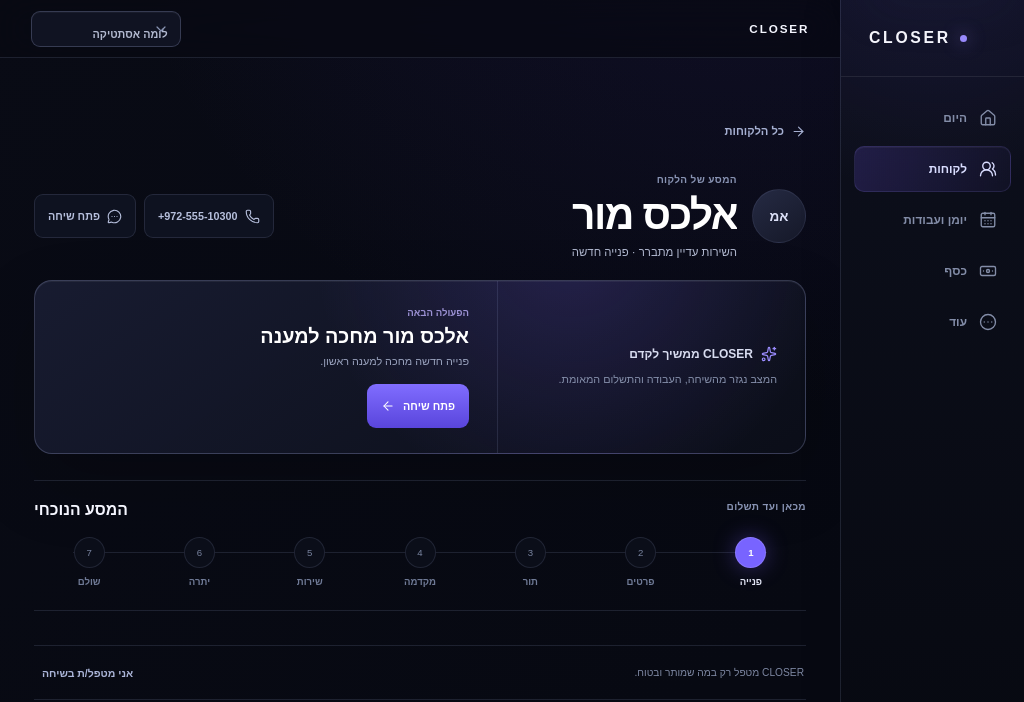
Test case: production product experience › returns from a customer workspace to the Customers operating view
Click the link "כל הלקוחות".
click(765, 131)  # box [724,124,806,139]
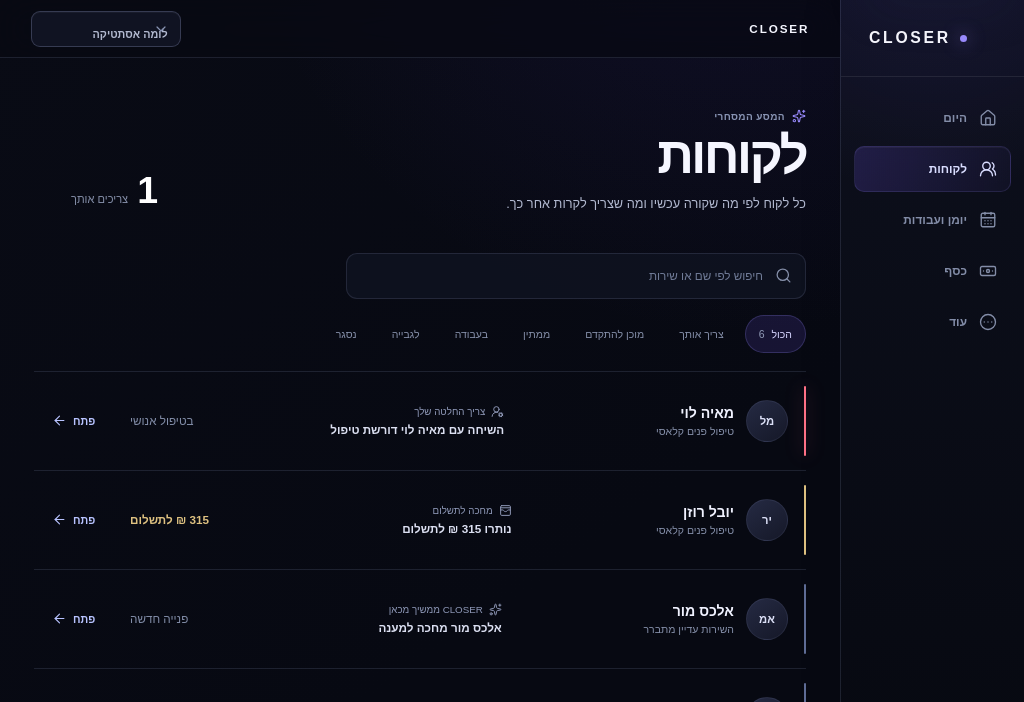
expect the heading "לקוחות" is shown: met, box [657,127,806,184]
expect the search field named "חיפוש לקוחות" is shown: met, box [360,268,765,283]
